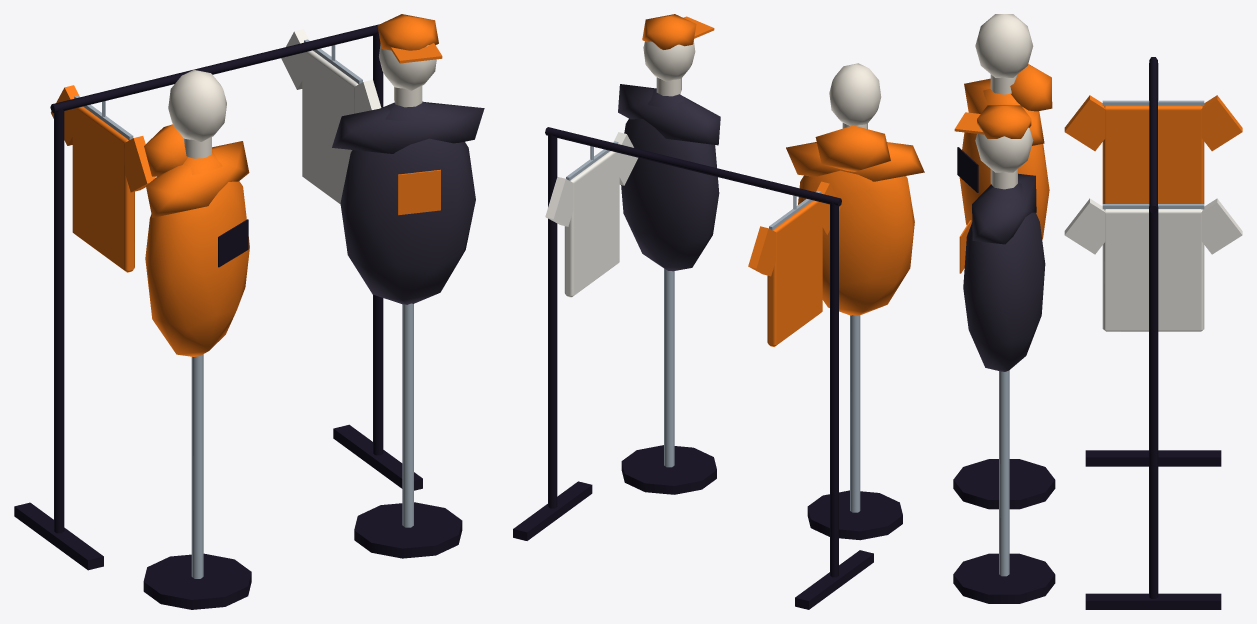
The model's file is station_special_ausstattung_1_2.glb.
3 views of the same model, side by side, from view 1: azimuth 30°, elevation 25°; view 2: azimuth 150°, elevation 25°; view 3: azimuth 270°, elevation 25° (orthographic). The views are drawn at different scales.
Visible parts, largest first — view 1: station_special_ausstattung_1_2; view 2: station_special_ausstattung_1_2; view 3: station_special_ausstattung_1_2.
Boxes of the visible parts, box(x1,y1,x2,y2) form: station_special_ausstattung_1_2: box(14, 14, 484, 609); station_special_ausstattung_1_2: box(513, 14, 924, 609); station_special_ausstattung_1_2: box(953, 14, 1242, 609).
Size of the model in its own units: 1.07 by 1.55 by 0.8523.
